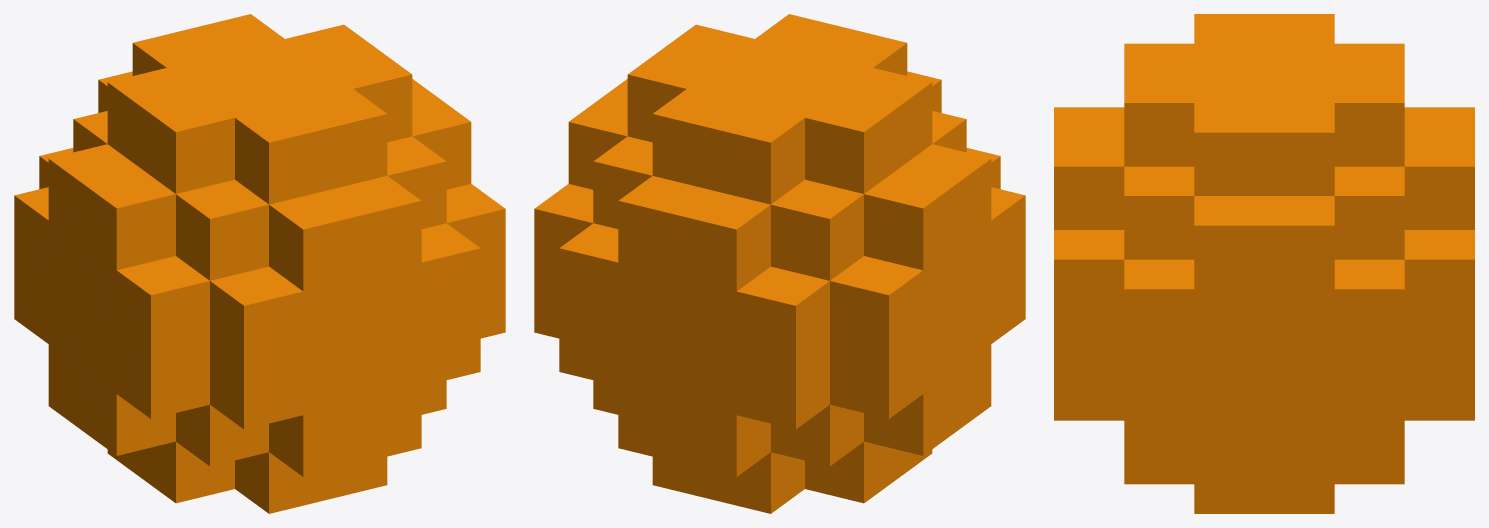
The model's file is EnergyOrb.dae.
3 renders of one model, left to right at view 1: azimuth 30°, elevation 25°; view 2: azimuth 150°, elevation 25°; view 3: azimuth 270°, elevation 25°, orthographic. The views are drawn at different scales.
Parts seen in each view (by area): view 1: energyorb.merged; view 2: energyorb.merged; view 3: energyorb.merged.
Boxes of the visible parts, <box> form: energyorb.merged: <box>14,14,505,513</box>; energyorb.merged: <box>534,14,1025,513</box>; energyorb.merged: <box>1054,14,1474,513</box>.
Bounding box in the file's own units: 0.6 × 0.6 × 0.6.
1 material, 1 textured.
